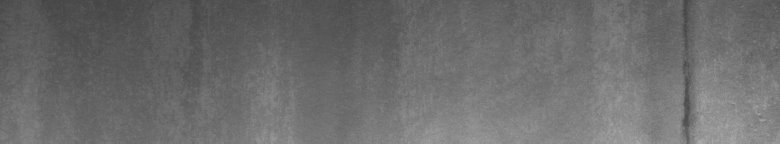hd: (677, 4, 692, 136)
